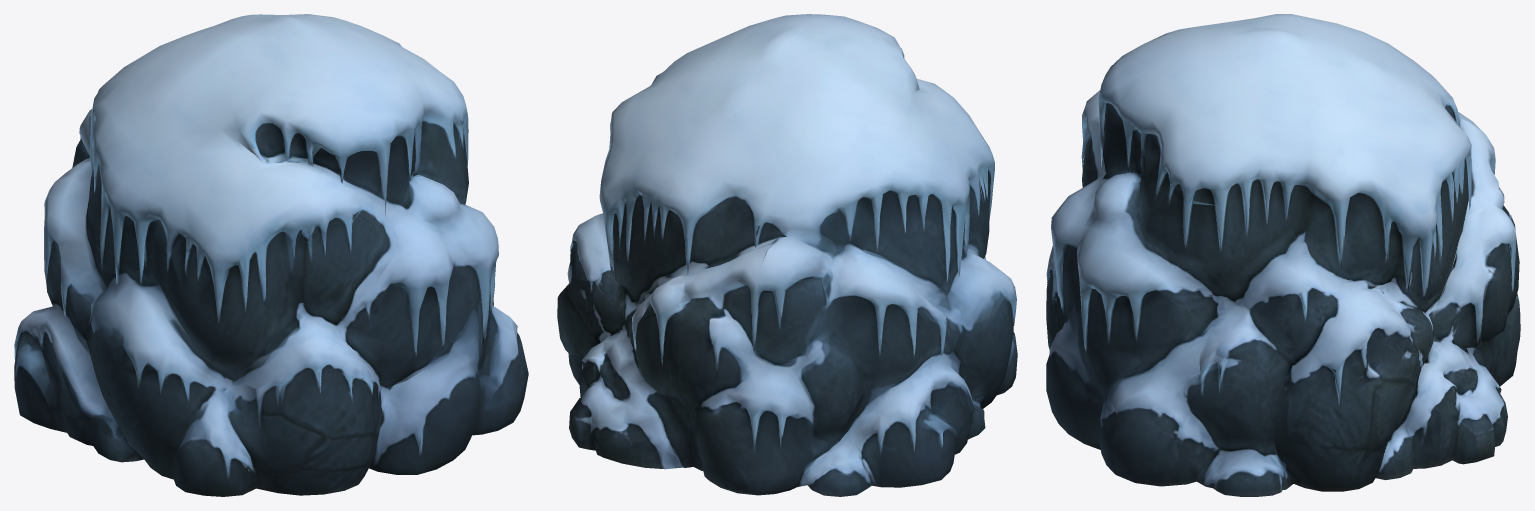
The model's file is SM_Env_HeorotSnowBoulder.fbx.
3 views of the same model, side by side, from view 1: azimuth 30°, elevation 25°; view 2: azimuth 150°, elevation 25°; view 3: azimuth 270°, elevation 25° (orthographic). The views are drawn at different scales.
Parts seen in each view (by area): view 1: SM_Env_HeorotSnowBoulder; view 2: SM_Env_HeorotSnowBoulder; view 3: SM_Env_HeorotSnowBoulder.
Boxes of the visible parts, x1,y1,x2,y2 form: SM_Env_HeorotSnowBoulder: (14,14,528,496); SM_Env_HeorotSnowBoulder: (557,14,1017,496); SM_Env_HeorotSnowBoulder: (1046,14,1520,496).
Bounding box in the file's own units: 41.09 × 41.33 × 36.
1 material, 1 textured.
